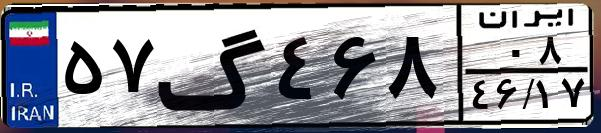0: (508, 27, 537, 80)
1: (535, 70, 560, 125)
4: (270, 28, 330, 110), (470, 70, 495, 125)
5: (57, 26, 110, 100)
6: (330, 28, 385, 110), (495, 70, 520, 125)
7: (110, 28, 156, 98), (560, 70, 590, 125)
8: (385, 28, 445, 110), (537, 27, 568, 80)
گ: (156, 12, 270, 120)
